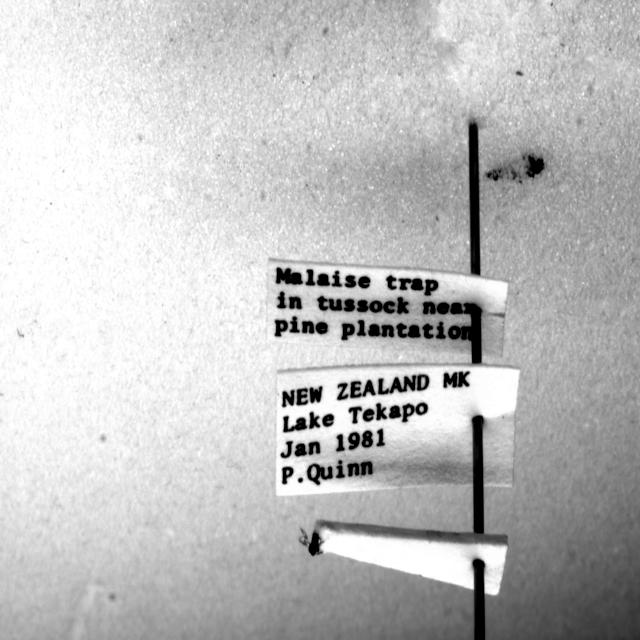typed_label: (276, 364, 519, 495), (268, 259, 508, 356)
